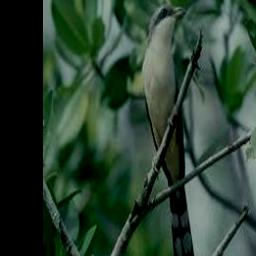Cuckoo: (143, 4, 197, 256)
